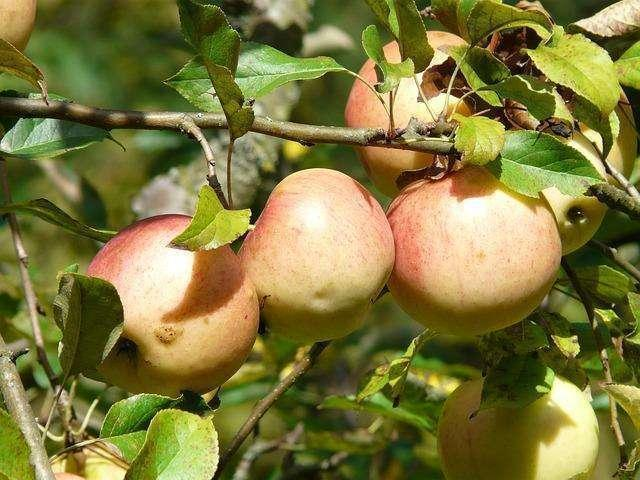apple: (75, 213, 259, 396), (383, 167, 563, 334), (236, 167, 395, 340), (347, 30, 499, 191), (439, 368, 620, 480)
